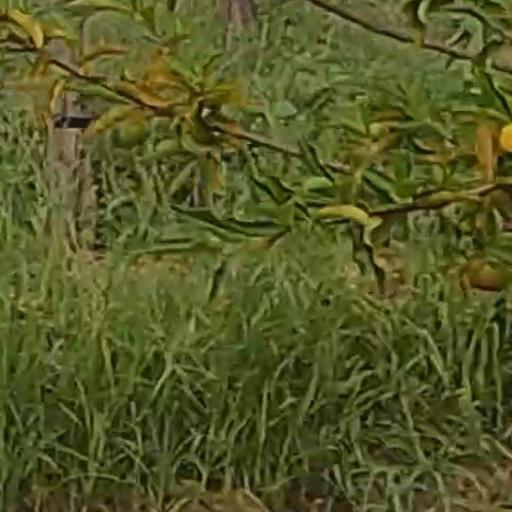acerola: (469, 257, 505, 291), (121, 124, 150, 143), (500, 123, 512, 150)
